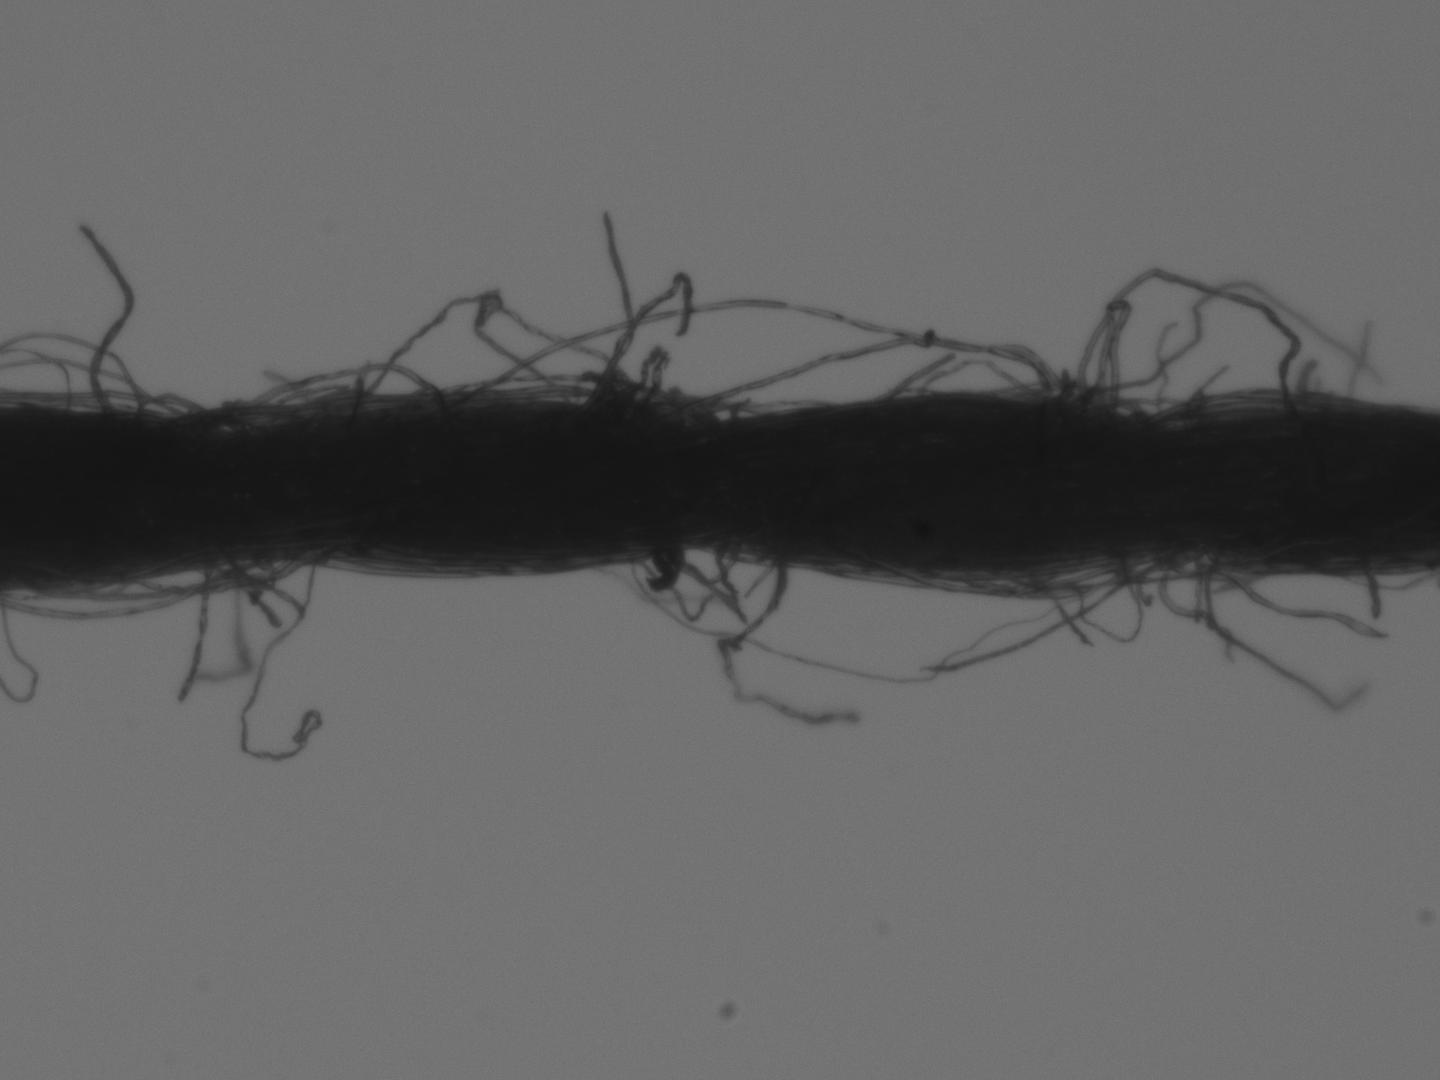loop_fiber: (1076, 269, 1305, 420), (364, 294, 633, 412), (676, 336, 1051, 413), (238, 361, 441, 420), (126, 547, 320, 599), (907, 557, 1125, 599), (642, 548, 742, 625), (613, 345, 666, 411), (184, 400, 298, 430), (141, 389, 201, 420)
protruding_fiber: (715, 559, 861, 728), (74, 217, 130, 407), (1032, 574, 1094, 651), (175, 568, 209, 703), (880, 346, 956, 403), (1359, 558, 1384, 619)
